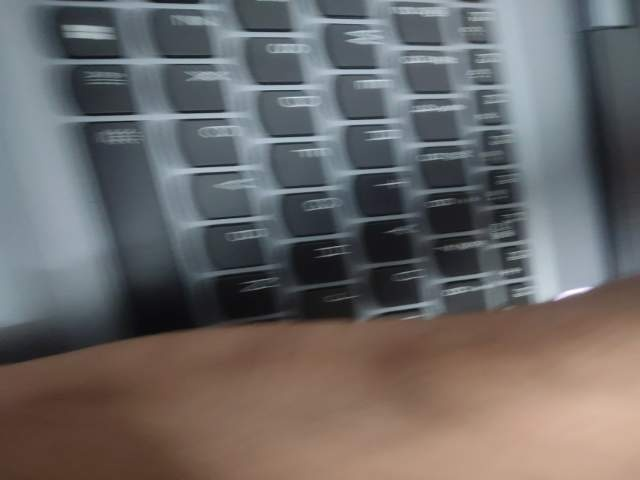pothole: (319, 254, 419, 334)
